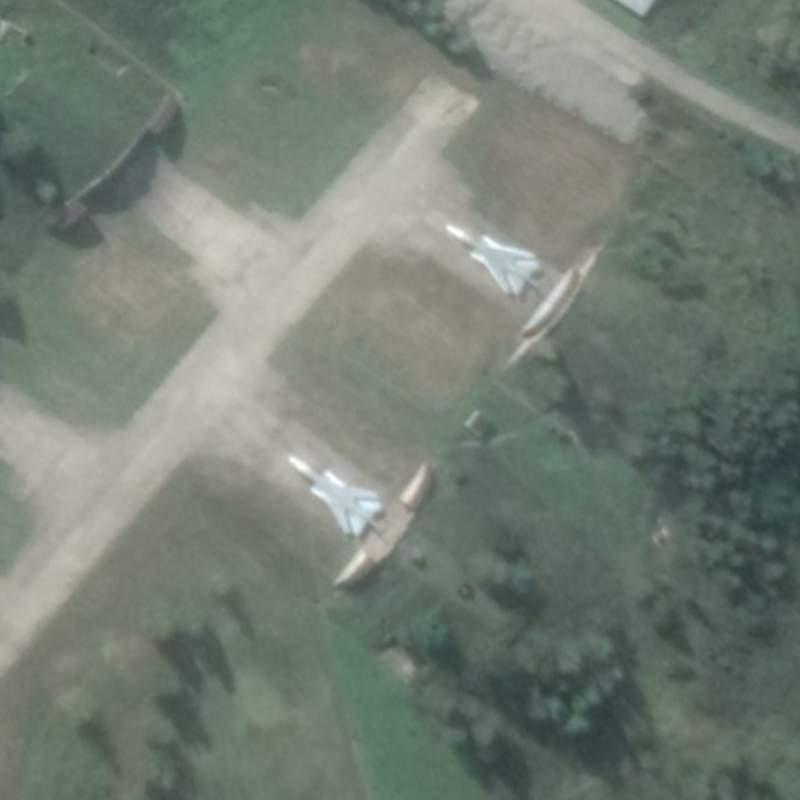A20: (286, 454, 384, 538), (443, 222, 541, 297)
